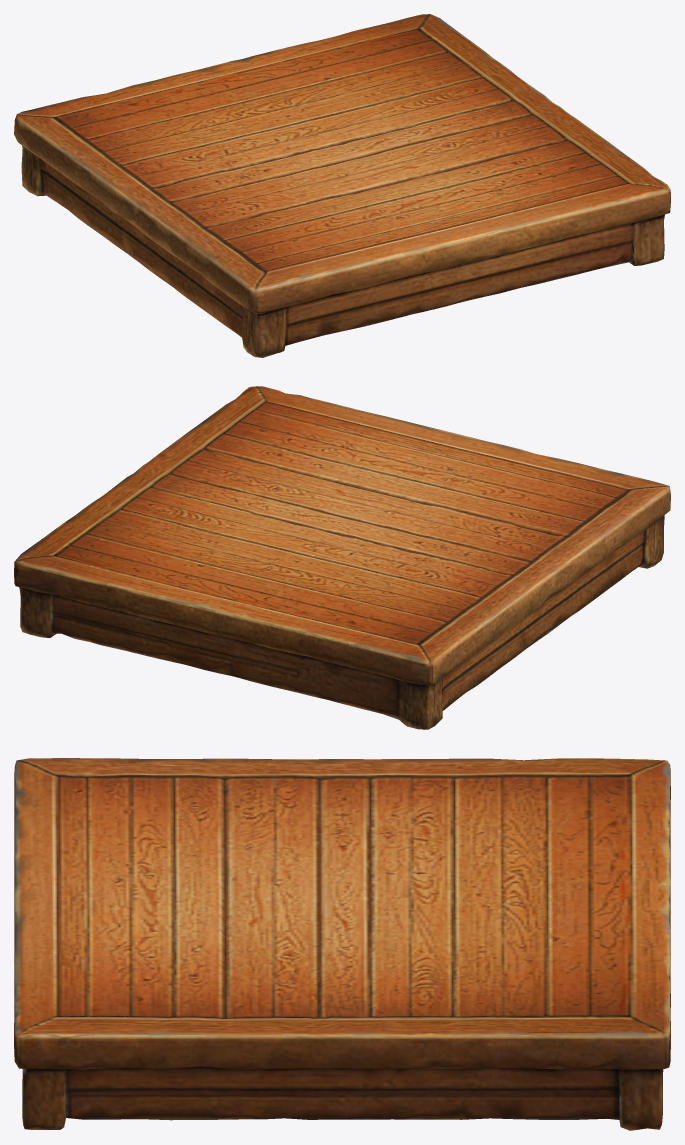
Rendered from 경복궁_마루.glb.
3 views of the same model, one above another, from view 1: azimuth 30°, elevation 25°; view 2: azimuth 150°, elevation 25°; view 3: azimuth 270°, elevation 25° (orthographic). The views are drawn at different scales.
Visible parts, largest first — view 1: texture_mapping; view 2: texture_mapping; view 3: texture_mapping.
Boxes of the visible parts, x1=… form: texture_mapping: x1=14, y1=14, x2=670, y2=357; texture_mapping: x1=14, y1=386, x2=670, y2=729; texture_mapping: x1=14, y1=758, x2=670, y2=1130.
Size of the model in its own units: 1 by 0.1699 by 1.
Materials: 1 (1 with a texture image).
